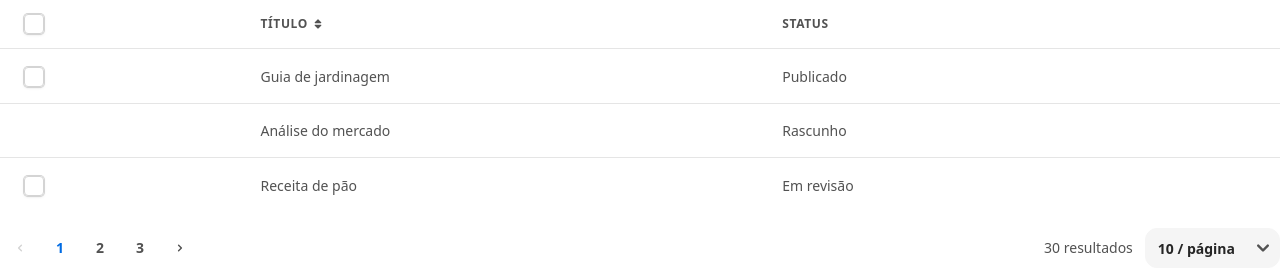
Test: DataTable › rowSelectable: só as linhas escolhíveis têm caixa, com o nome de checkboxLabel (#495)
This screenshot has width=1280, height=274.
Click the checkbox named "Selecionar todas as linhas": [34, 24] box [24,14,44,34]
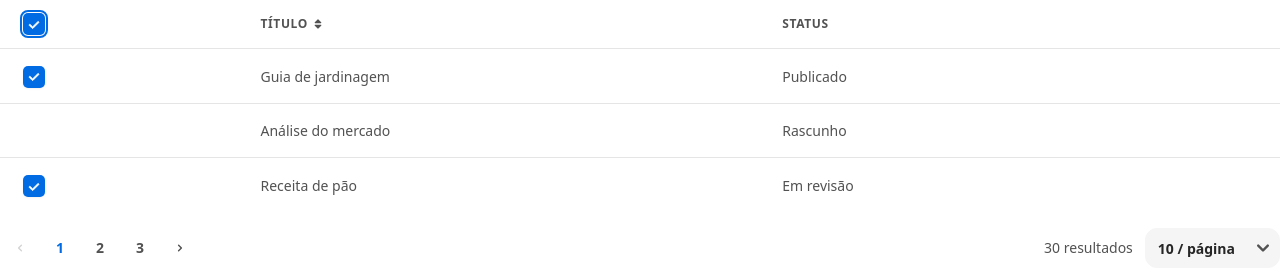
Expected: the checkbox named "Selecionar Guia de jardinagem" is checked, [24,67,44,87]
Expected: the checkbox named "Selecionar Receita de pão" is checked, [24,176,44,196]
